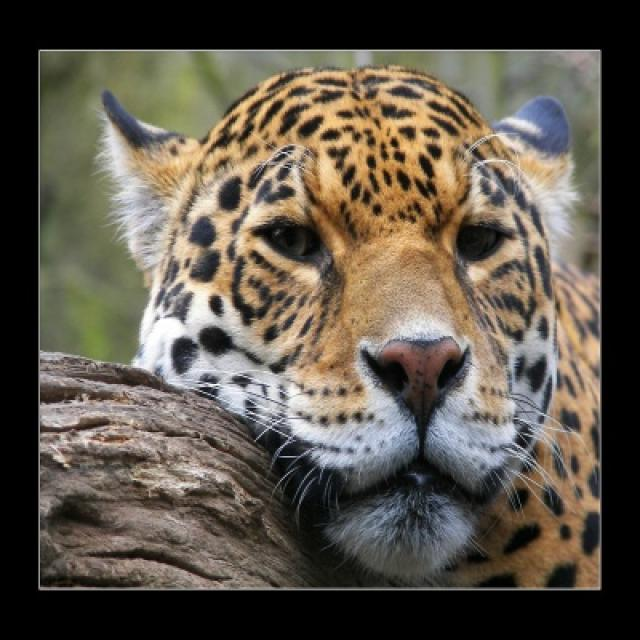Jaguar: (94, 67, 600, 589)
